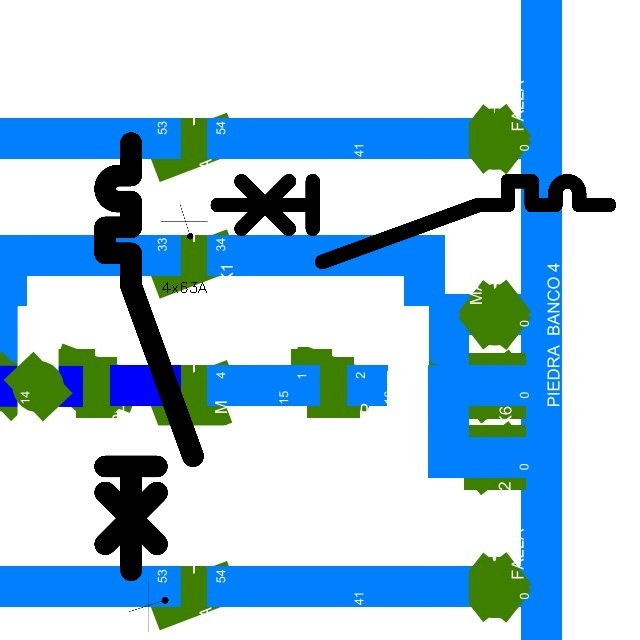interruptor_termomagnetico: (94, 132, 204, 581), (207, 171, 619, 272)
